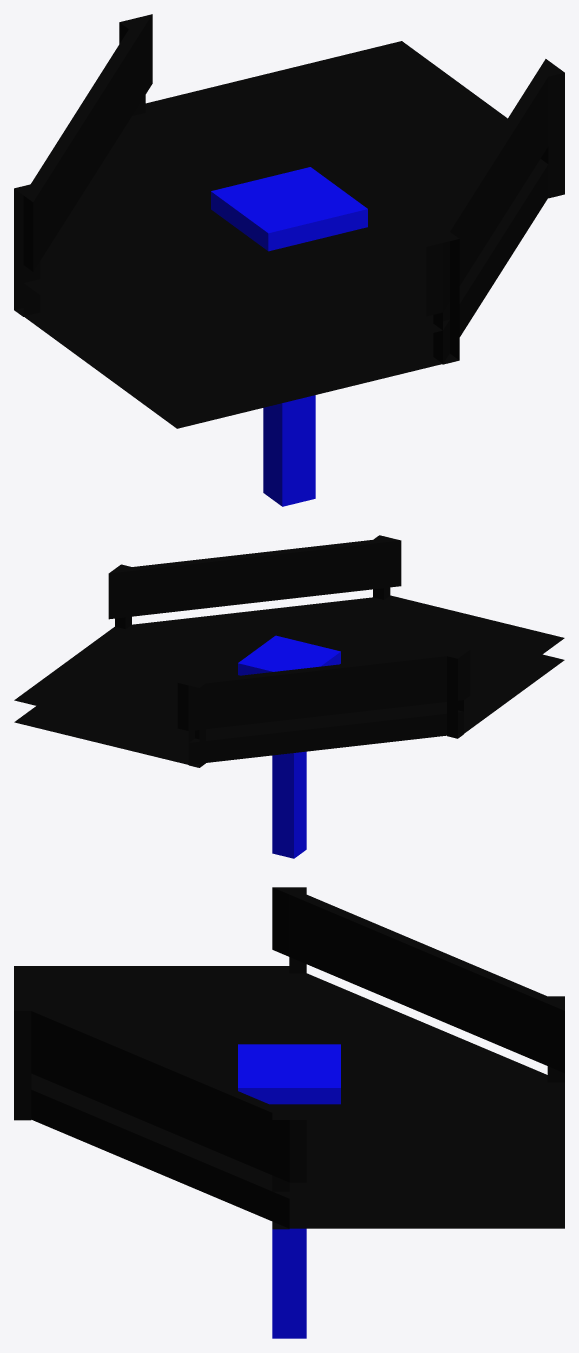
Rendered from BigStrut_P_E_E_E_E_P_E_E_None.fbx.
3 renders of one model, top to bottom at view 1: azimuth 30°, elevation 25°; view 2: azimuth 150°, elevation 25°; view 3: azimuth 270°, elevation 25°, orthographic. The views are drawn at different scales.
Visible parts, largest first — view 1: BigStrut_P_E_E_E_E_P_E_E_None; view 2: BigStrut_P_E_E_E_E_P_E_E_None; view 3: BigStrut_P_E_E_E_E_P_E_E_None.
Boxes of the visible parts, x1,y1,x2,y2 form: BigStrut_P_E_E_E_E_P_E_E_None: (14,14,564,506); BigStrut_P_E_E_E_E_P_E_E_None: (14,535,564,858); BigStrut_P_E_E_E_E_P_E_E_None: (14,887,564,1338).
Bounding box in the file's own units: 100 × 65.62 × 100.
